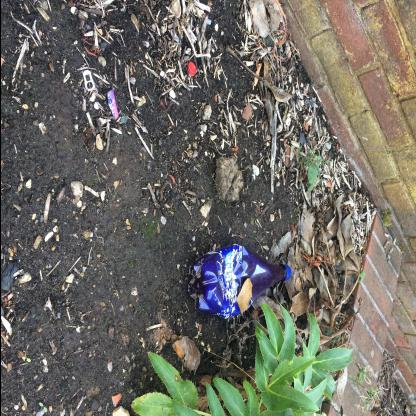plastik: (187, 243, 290, 319)
